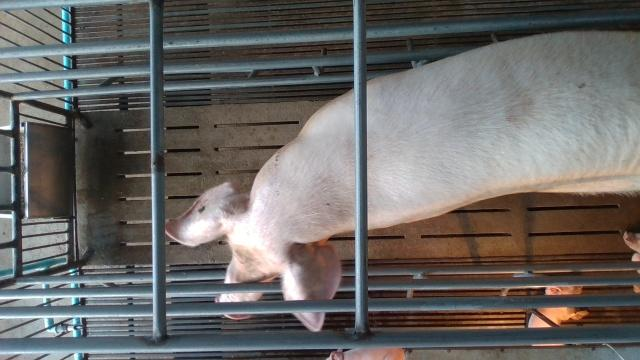piglet: (527, 285, 590, 347)
sow-stand: (167, 31, 640, 332)
